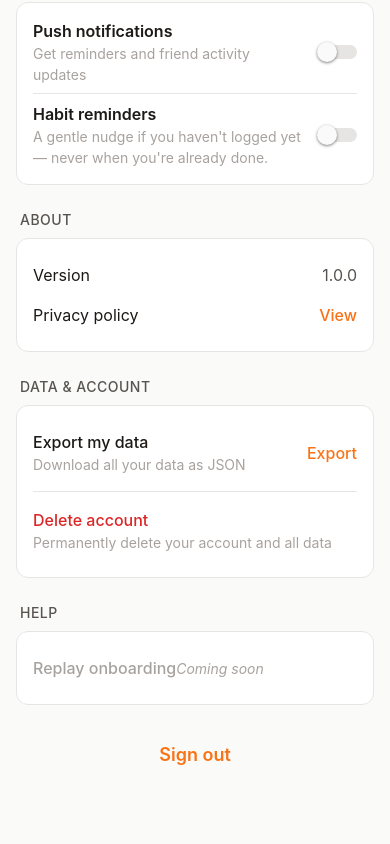
Scenario: SettingsScreen — Account Deletion › shows confirmation modal when delete is pressed
(page scrolled)
Click the button with test id "settings-delete-account".
click(91, 520)  # box [33,500,357,561]
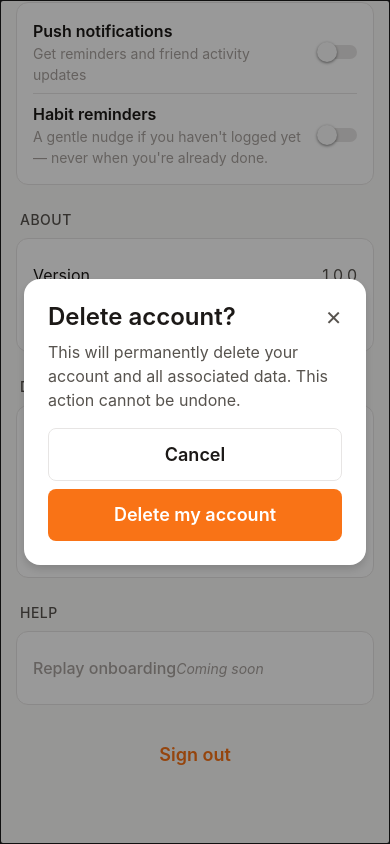
Check: the text "Delete account?" is shown, box [48,302,236,331]
Check: the button with aria-label "Permanently delete your account" is shown, box [48,489,342,541]
